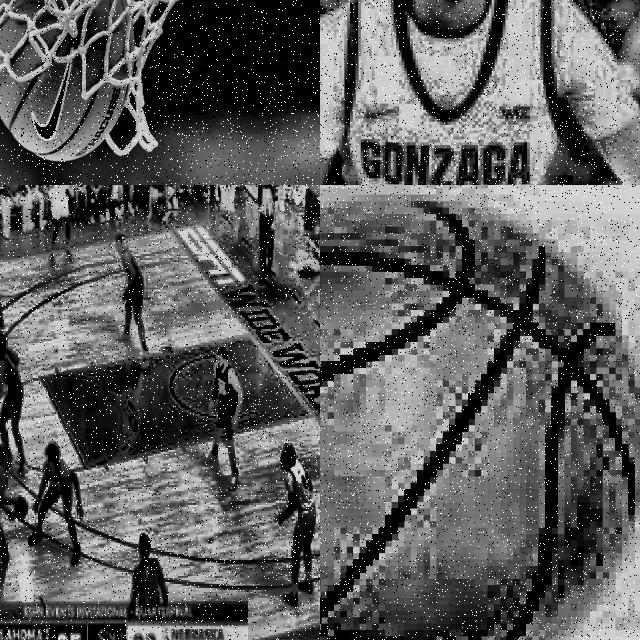Basketball: (320, 201, 640, 640), (15, 497, 27, 519)
